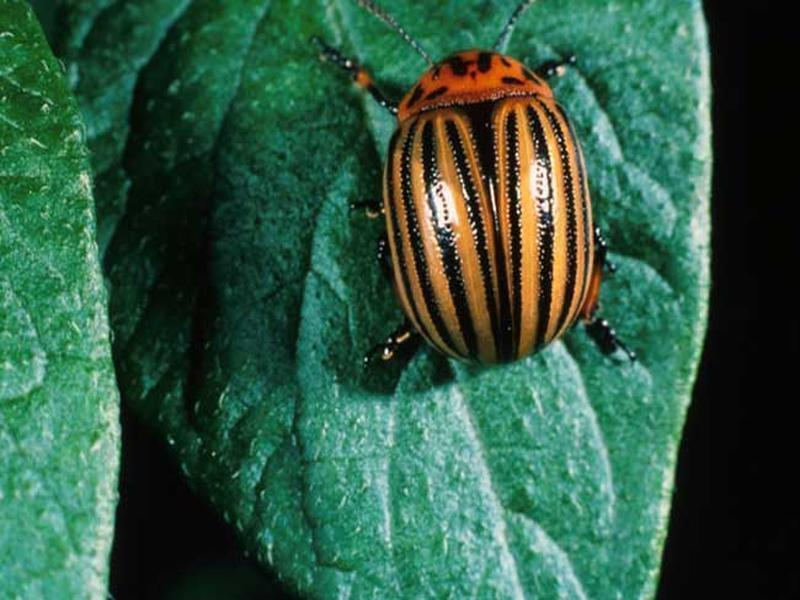hrosc: (360, 38, 621, 385)
